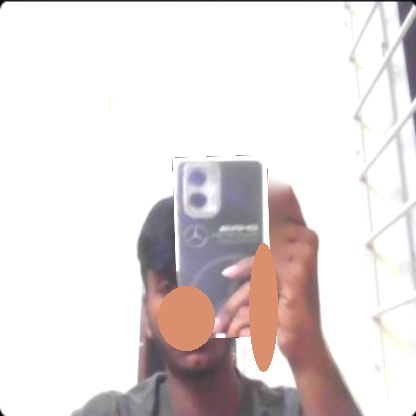cell_phone: (172, 155, 272, 339)
